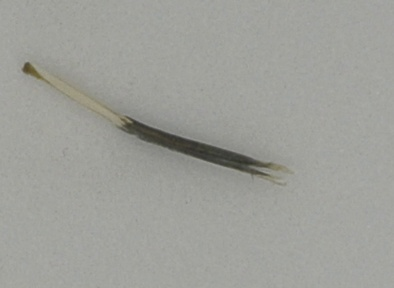เมล้ดปลายพู่กัน: (21, 61, 296, 187)
